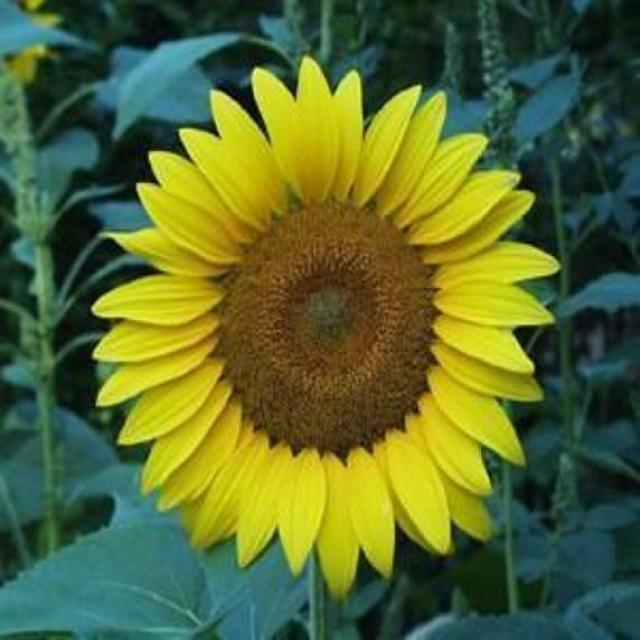sunflower: (82, 50, 570, 602), (0, 1, 64, 21)
